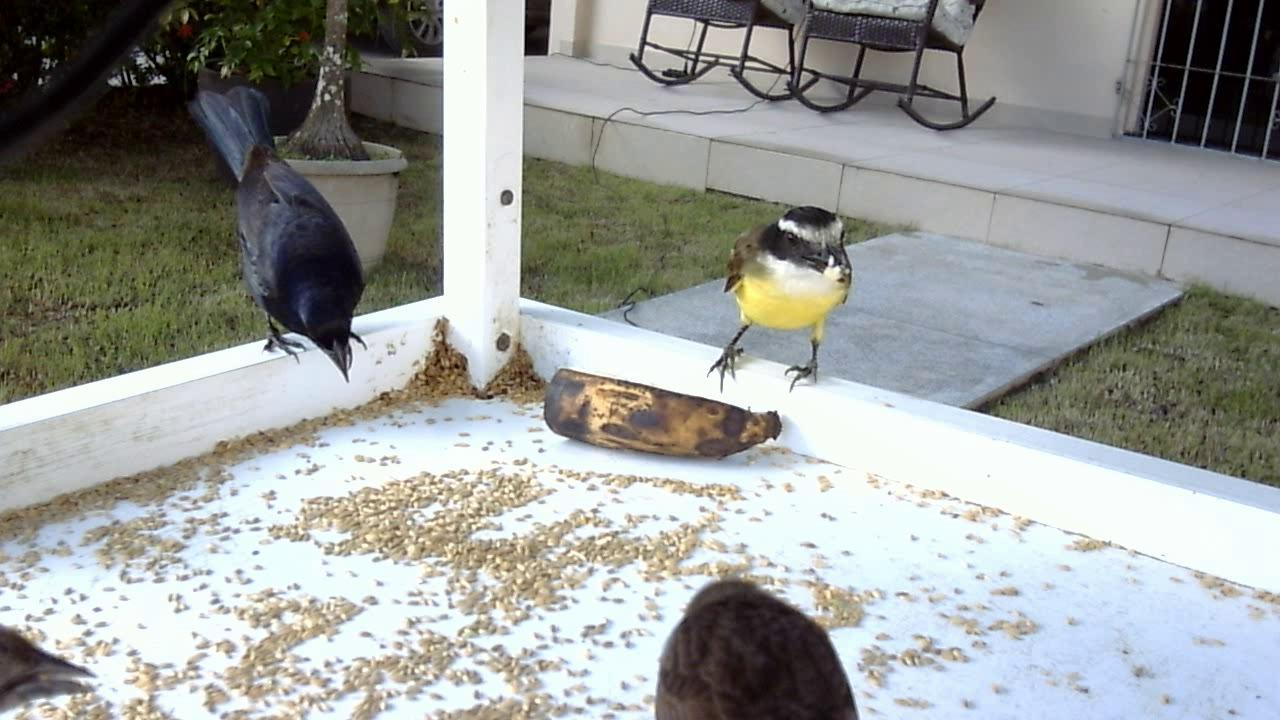bem_te_vi: (693, 187, 863, 408)
chupim: (182, 75, 373, 384), (651, 568, 874, 716)
